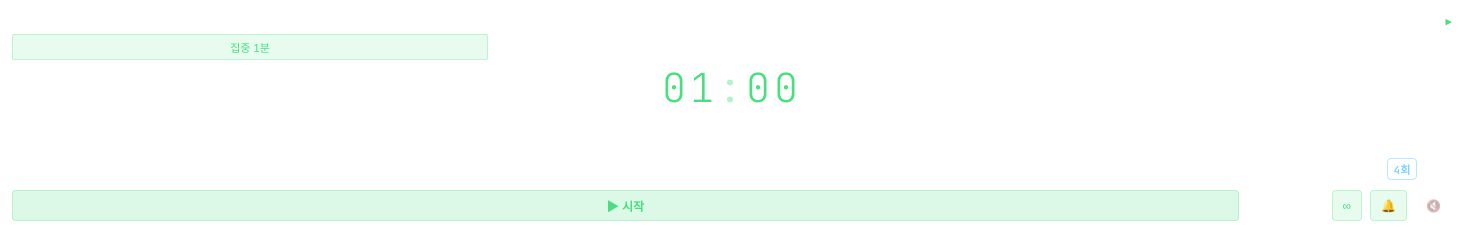
Scenario: PomodoroTimer autoStart phase transitions › should complete 3 consecutive cycles without stopping when autoStart=true
Click the button "▶ 시작" at (625, 206), box [12, 190, 1239, 221]
Wait 310000 ms
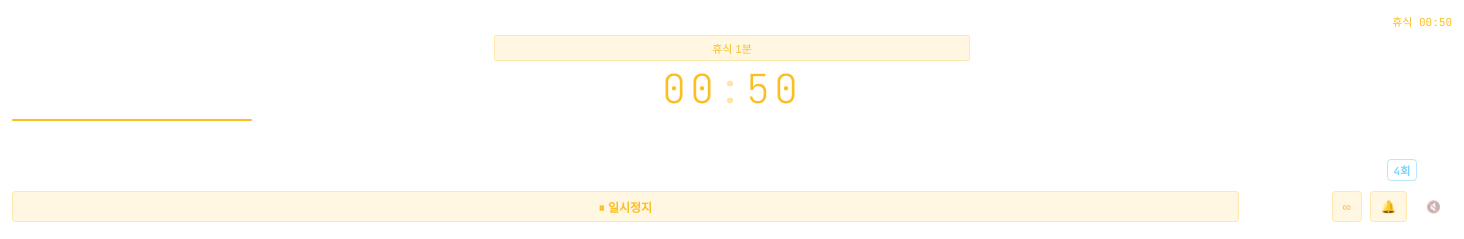
Result: the button "⏸ 일시정지" is shown at [12, 191, 1239, 222]
